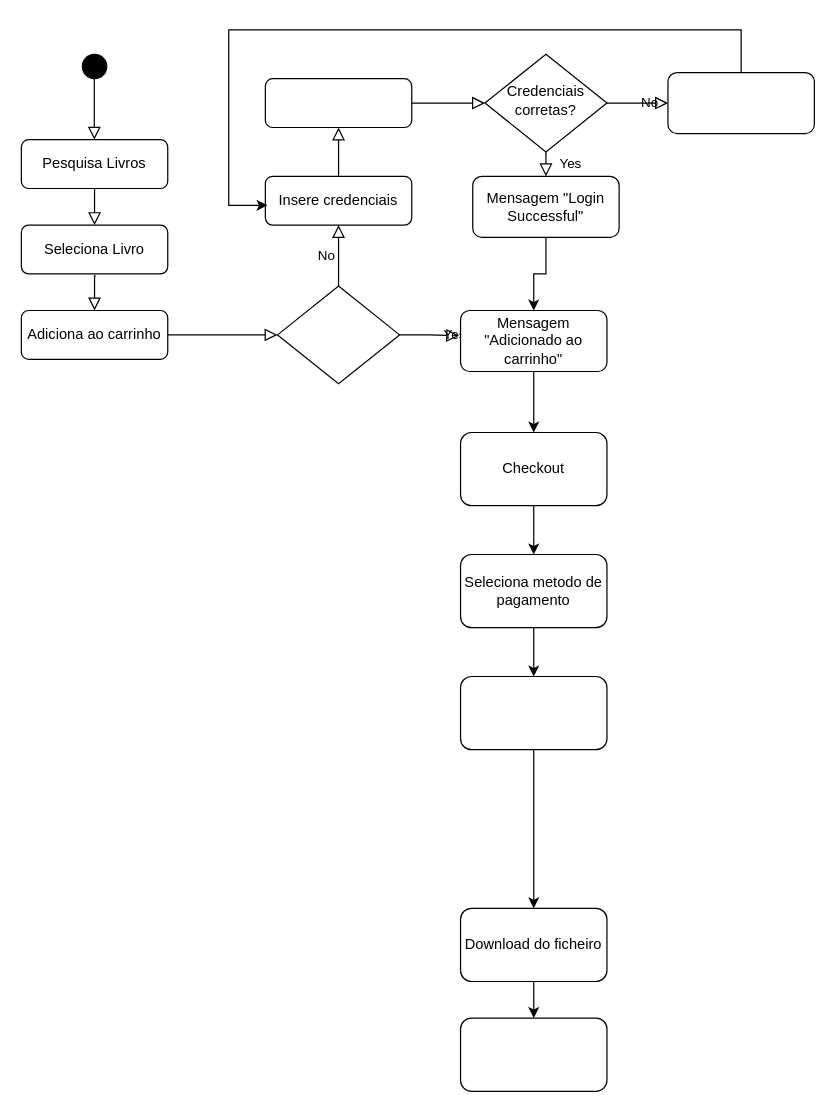
The diagram is 836 pixels wide and 1113 high, and some of its shapes have lost their labels. Here are the shapes that lost their labels. From the top down, the centre of each, then its label:
(x=338, y=102): Base de dados valida credenciais
(x=740, y=102): Mensagem "Login Falhou"
(x=338, y=334): Logado?
(x=533, y=712): Finaliza processo de pagamento
(x=533, y=1054): Mensagem "Obrigado. Boa leitura!"
